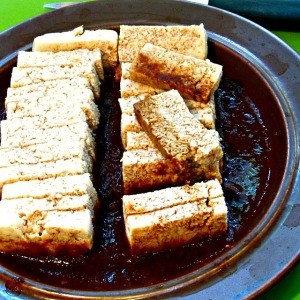tofu_brain food: (5, 41, 95, 238), (123, 45, 206, 226)
